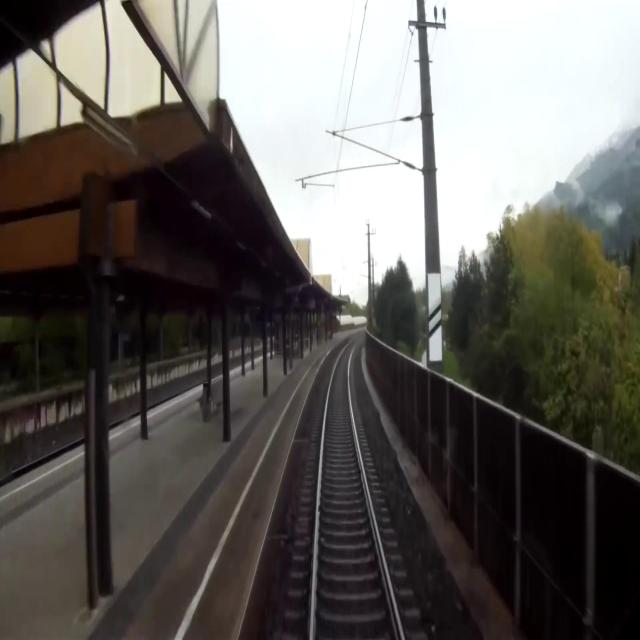rail-track: (315, 341, 400, 639)
